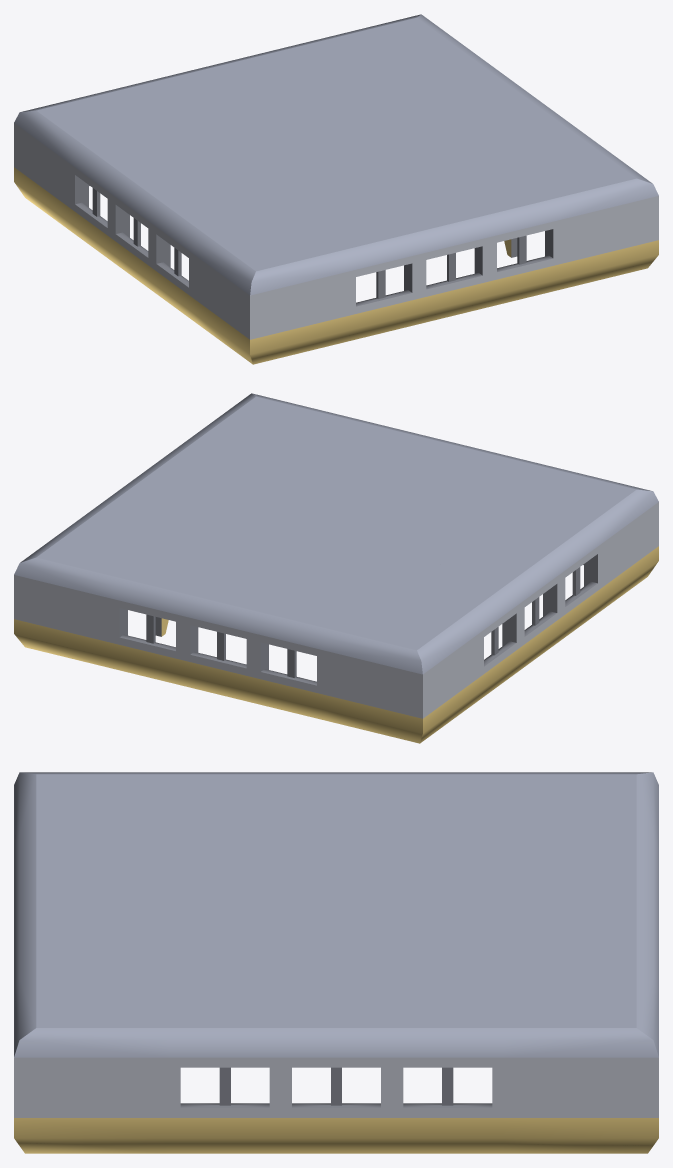
File: Bunker.fbx
The picture shows the model from 3 angles, top to bottom: view 1: azimuth 30°, elevation 25°; view 2: azimuth 150°, elevation 25°; view 3: azimuth 270°, elevation 25°; orthographic projection. The views are drawn at different scales.
Parts seen in each view (by area): view 1: top-large, cover-stripe-corner.003, cover-stripe-corner.002, cover-stripe-corner.001, cover-stripe-bar.008, cover-stripe-bar.010, cover-stripe-bar.009, cover-stripe-bar.005, cover-stripe-bar.006, cover-stripe-bar.004, cover-stripe-corner, cover-stripe-bar.012 (+5 smaller); view 2: top-large, cover-stripe-corner.001, cover-stripe-corner, cover-stripe-corner.003, cover-stripe-bar.003, cover-stripe-bar.001, cover-stripe-bar.002, cover-stripe-bar.005, cover-stripe-bar.004, cover-stripe-bar.006, cover-stripe-corner.002, cover-stripe-bar.012 (+5 smaller); view 3: top-large, cover-stripe-corner, cover-stripe-corner.002, cover-stripe-bar.012, cover-stripe-bar.007, cover-stripe-bar.011, cover-stripe-corner.001, cover-stripe-corner.003, cover-stripe-bar.001, cover-stripe-bar.002, cover-stripe-bar.003, cover-stripe-bar.010 (+5 smaller).
Part boxes in pixels (bbox=[...]): top-large: bbox=[156, 68, 534, 225]; cover-stripe-corner.003: bbox=[193, 218, 348, 364]; cover-stripe-corner.002: bbox=[504, 143, 658, 290]; cover-stripe-corner.001: bbox=[14, 89, 161, 235]; cover-stripe-bar.008: bbox=[302, 205, 419, 341]; cover-stripe-bar.010: bbox=[443, 171, 560, 307]; cover-stripe-bar.009: bbox=[373, 188, 489, 324]; cover-stripe-bar.005: bbox=[111, 159, 236, 295]; cover-stripe-bar.006: bbox=[71, 129, 195, 265]; cover-stripe-bar.004: bbox=[152, 188, 277, 325]; cover-stripe-corner: bbox=[326, 14, 475, 70]; cover-stripe-bar.012: bbox=[395, 53, 516, 100]; top-large: bbox=[156, 440, 526, 601]; cover-stripe-corner.001: bbox=[324, 597, 479, 743]; cover-stripe-corner: bbox=[14, 522, 168, 669]; cover-stripe-corner.003: bbox=[514, 468, 658, 614]; cover-stripe-bar.003: bbox=[112, 548, 231, 686]; cover-stripe-bar.001: bbox=[253, 583, 370, 720]; cover-stripe-bar.002: bbox=[183, 565, 302, 703]; cover-stripe-bar.005: bbox=[436, 538, 561, 674]; cover-stripe-bar.004: bbox=[477, 508, 601, 644]; cover-stripe-bar.006: bbox=[395, 567, 520, 704]; cover-stripe-corner.002: bbox=[197, 393, 346, 447]; cover-stripe-bar.012: bbox=[75, 492, 195, 538]; top-large: bbox=[142, 821, 530, 985]; cover-stripe-corner: bbox=[503, 971, 658, 1153]; cover-stripe-corner.002: bbox=[14, 971, 169, 1153]; cover-stripe-bar.012: bbox=[392, 981, 503, 1153]; cover-stripe-bar.007: bbox=[169, 985, 280, 1153]; cover-stripe-bar.011: bbox=[281, 982, 391, 1153]; cover-stripe-corner.001: bbox=[503, 772, 658, 849]; cover-stripe-corner.003: bbox=[14, 772, 169, 849]; cover-stripe-bar.001: bbox=[525, 830, 658, 896]; cover-stripe-bar.002: bbox=[525, 877, 658, 943]; cover-stripe-bar.003: bbox=[525, 924, 658, 990]; cover-stripe-bar.010: bbox=[14, 924, 141, 990].
Bounding box in the file's own units: 580 × 120 × 580.
